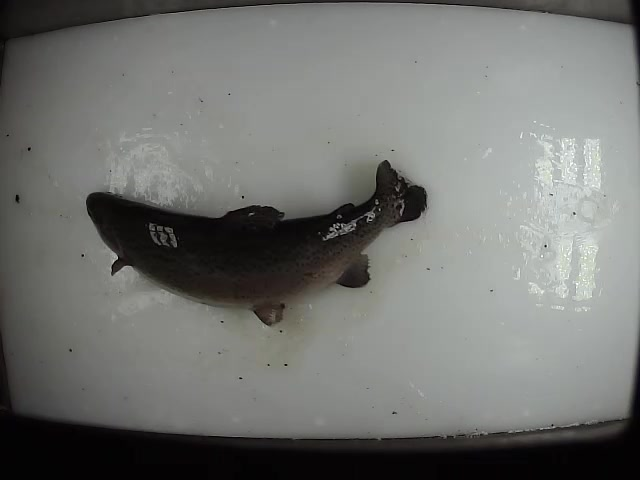fish: (79, 158, 430, 331)
